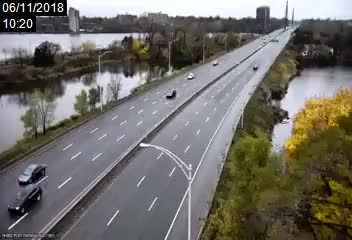personal_car: (7, 182, 44, 216), (18, 162, 48, 185), (165, 87, 177, 99), (186, 72, 195, 80), (211, 58, 219, 66), (252, 62, 259, 71)
